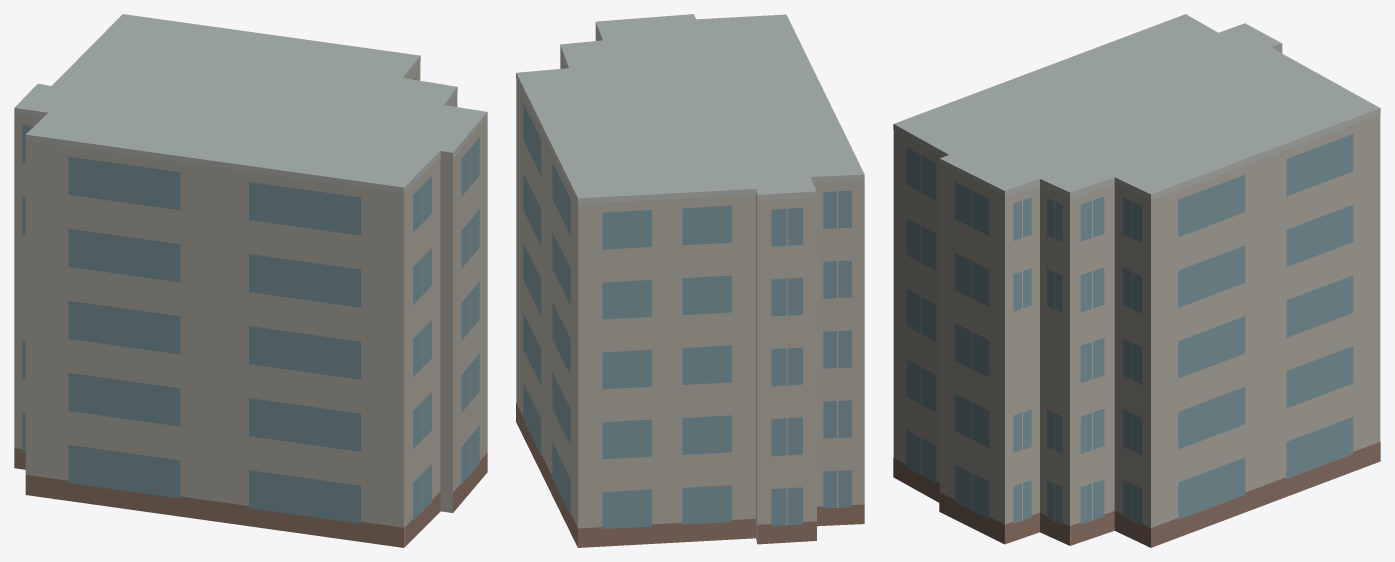
Rendered from survey-upis-33043788.glb.
3 views of the same model, side by side, from view 1: azimuth 30°, elevation 25°; view 2: azimuth 150°, elevation 25°; view 3: azimuth 270°, elevation 25° (orthographic). The views are drawn at different scales.
Parts seen in each view (by area): view 1: survey-upis-33043788.tmp; view 2: survey-upis-33043788.tmp; view 3: survey-upis-33043788.tmp.
Boxes of the visible parts, bbox=[...] form: survey-upis-33043788.tmp: bbox=[14, 14, 487, 547]; survey-upis-33043788.tmp: bbox=[516, 14, 864, 547]; survey-upis-33043788.tmp: bbox=[893, 14, 1380, 547].
Size of the model in its own units: 16.33 by 14.9 by 18.61.
